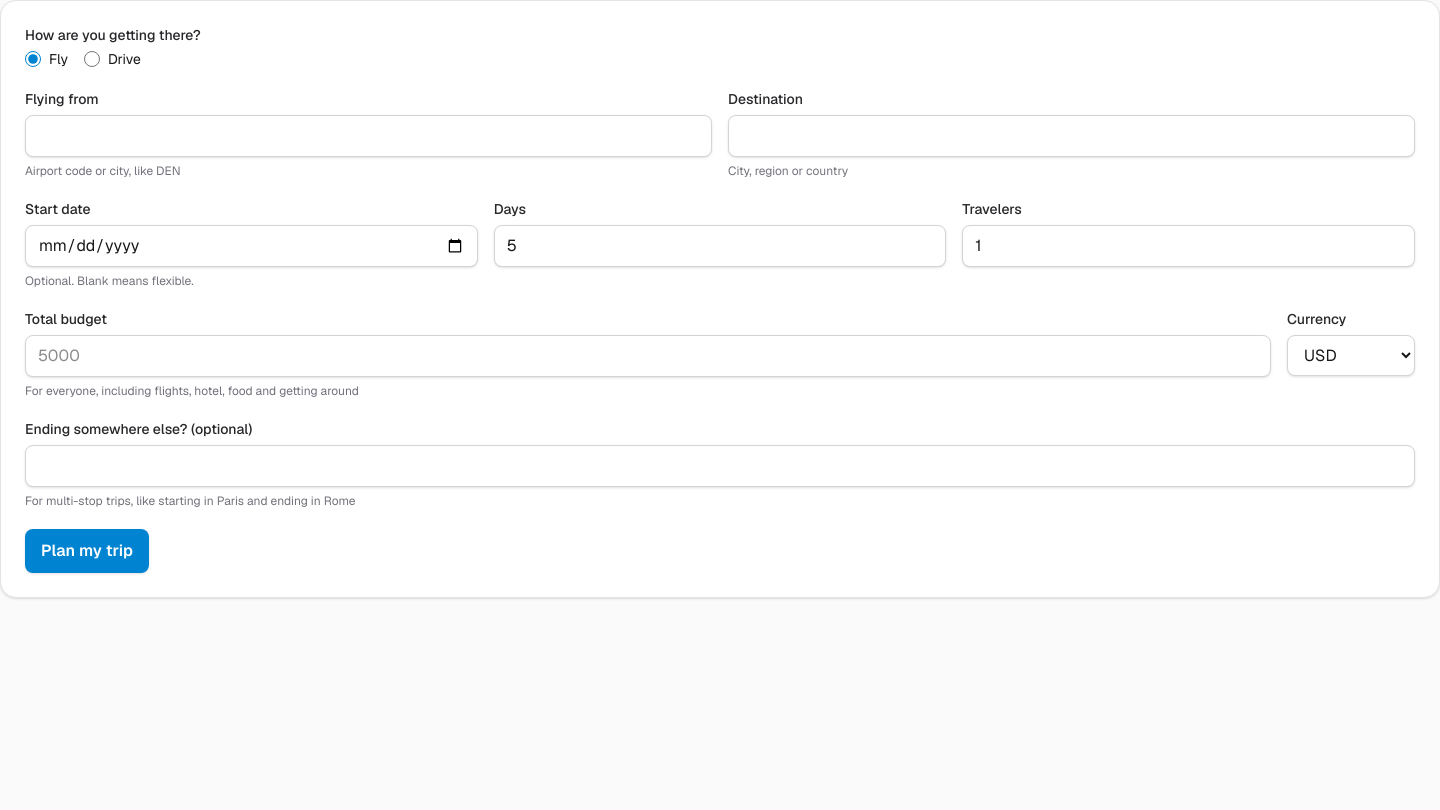
Test: TripForm › shows errors and doesn't call the API when fields are missing
Click the button "Plan my trip" at (87, 551), box [25,529,149,573]
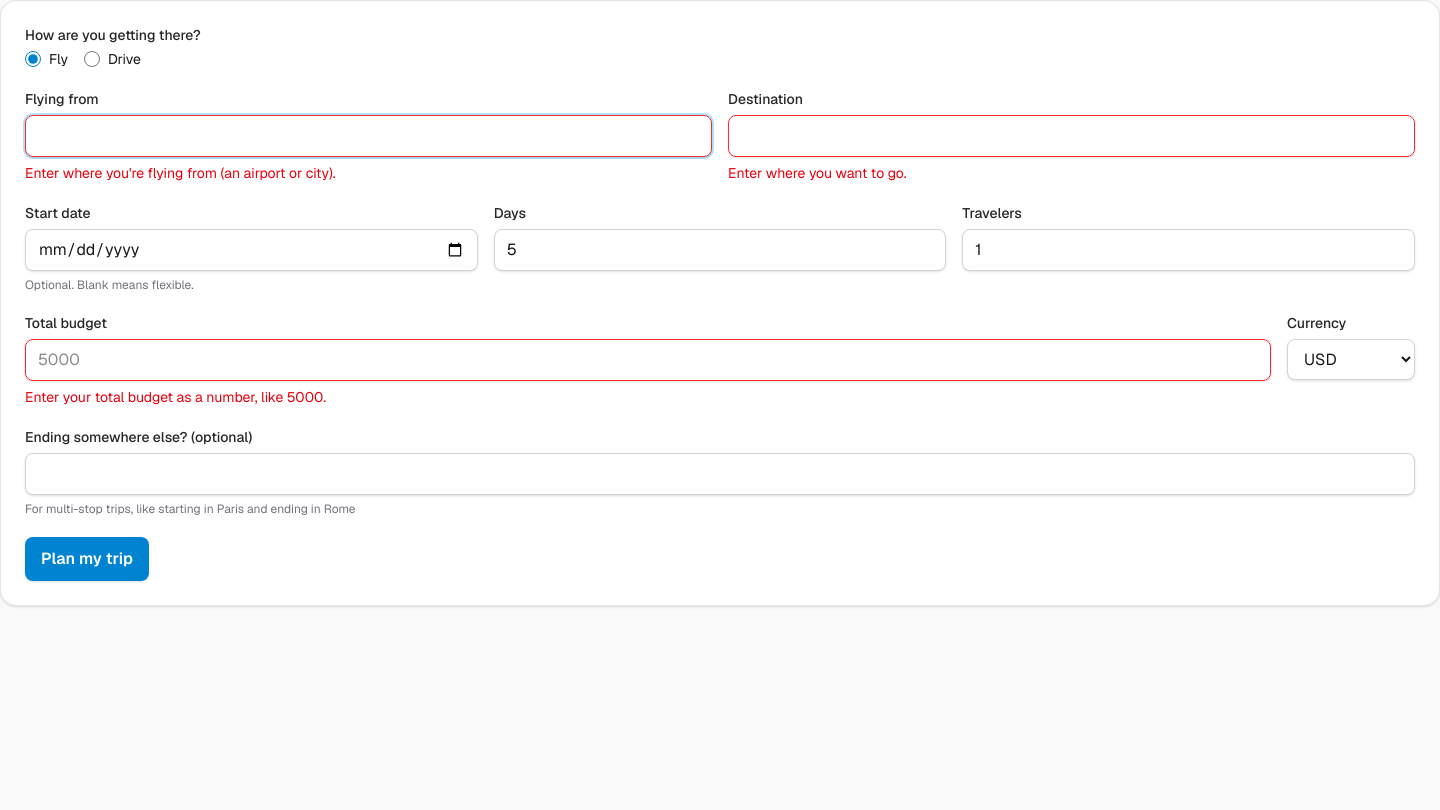
Expected: the text "Enter where you're flying from (an airport or city)." is shown, [25,164,336,182]
Expected: the text "Enter where you want to go." is shown, [728,164,907,182]
